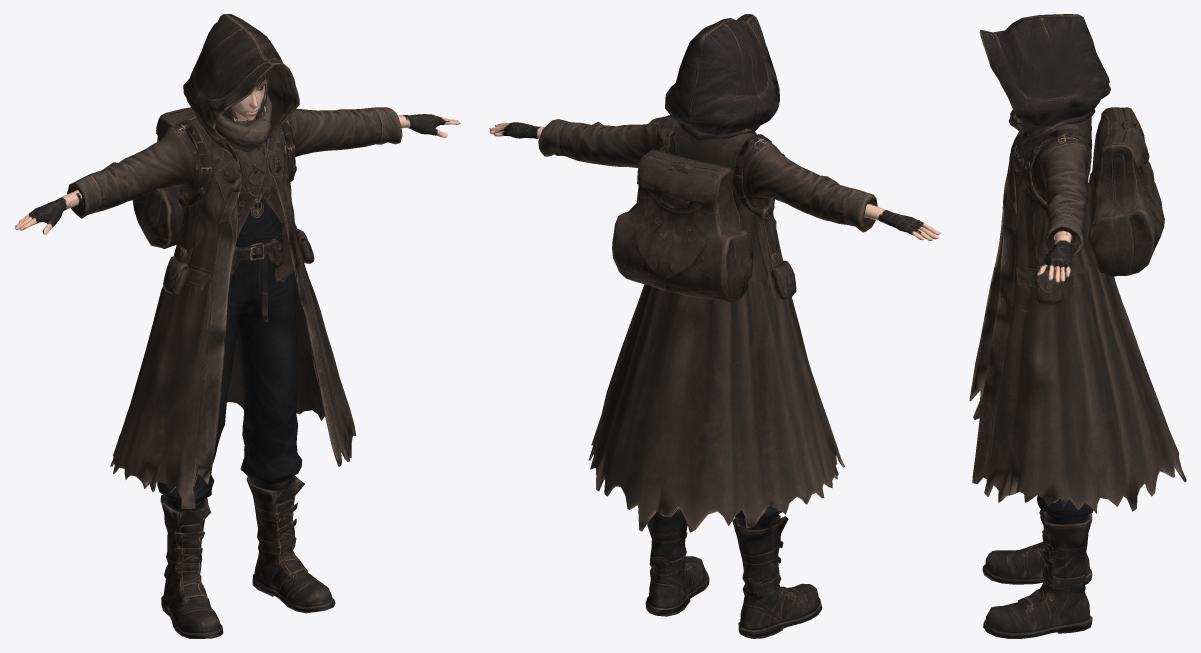
Rendered from explorer_mixamo_upload.fbx.
3 views of the same model, side by side, from view 1: azimuth 30°, elevation 25°; view 2: azimuth 150°, elevation 25°; view 3: azimuth 270°, elevation 25° (orthographic).
Visible parts, largest first — view 1: Explorer_MixamoUpload; view 2: Explorer_MixamoUpload; view 3: Explorer_MixamoUpload.
Boxes of the visible parts, left/top/right/bottom form: Explorer_MixamoUpload: left=14, top=14, right=460, bottom=638; Explorer_MixamoUpload: left=489, top=14, right=940, bottom=638; Explorer_MixamoUpload: left=969, top=14, right=1186, bottom=638.
Size of the model in its own units: 137 by 170 by 56.88.
Materials: 1 (1 with a texture image).
